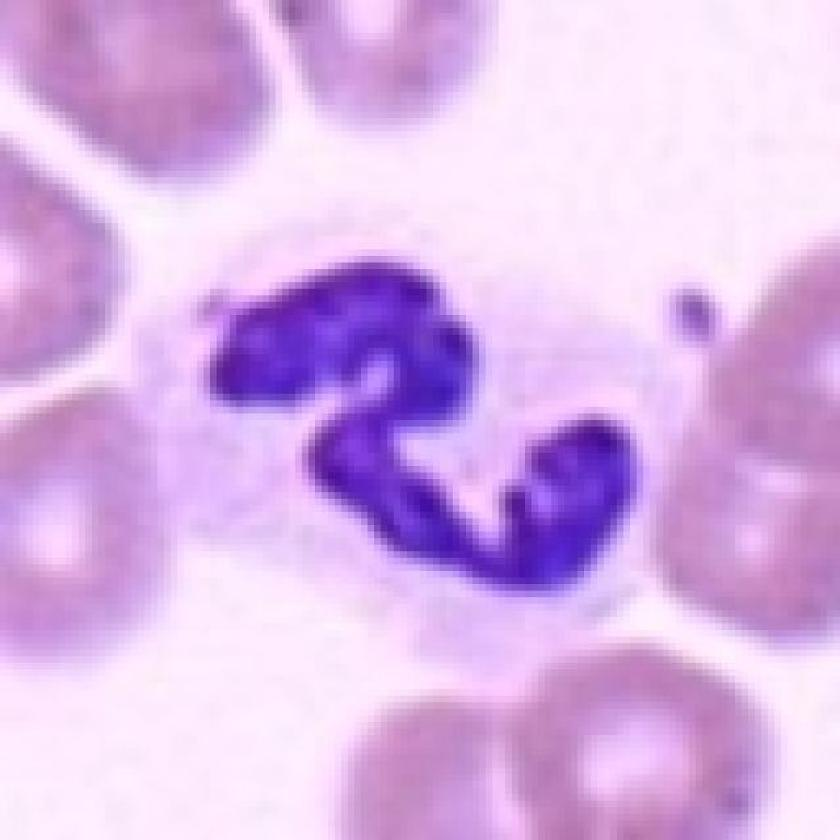neutrophil: (152, 125, 798, 662)
